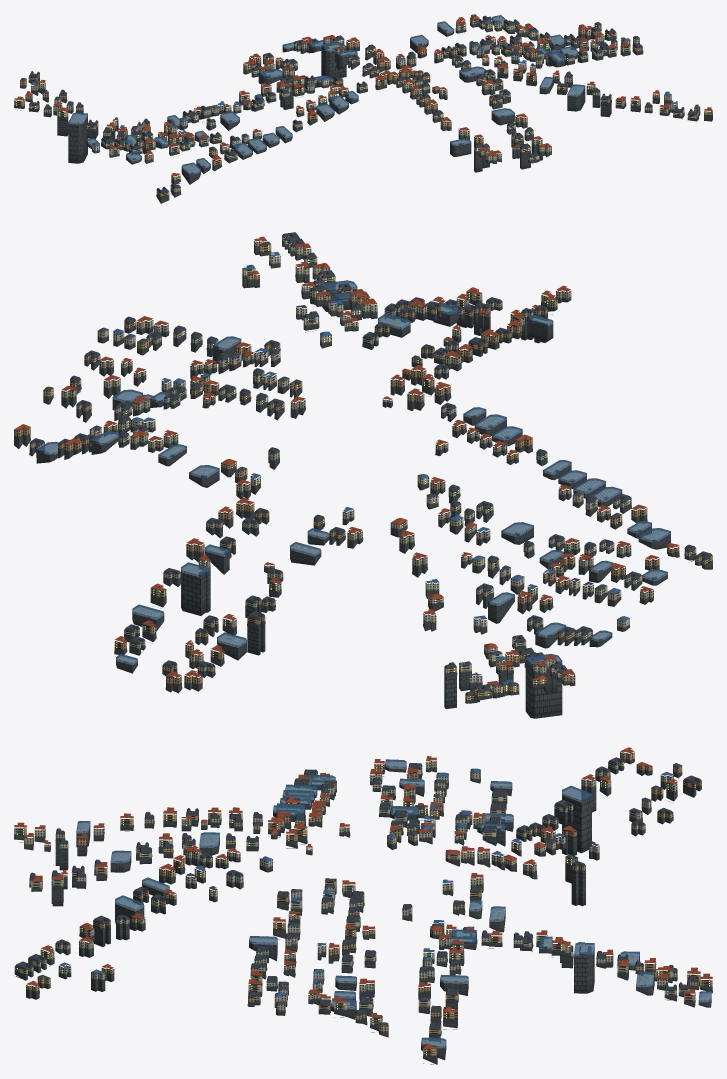
Rendered from osm_buildings_T_W02_S02_Q1.glb.
3 renders of one model, top to bottom at view 1: azimuth 30°, elevation 25°; view 2: azimuth 150°, elevation 25°; view 3: azimuth 270°, elevation 25°, orthographic. The views are drawn at different scales.
Visible parts, largest first — view 1: OSM_T_W02_S02_Q1_foundation, OSM_T_W02_S02_Q1_wall_cream_stucco, OSM_T_W02_S02_Q1_greenhouse_blend, OSM_T_W02_S02_Q1_wall_french_ochre, OSM_T_W02_S02_Q1_roof_mansard_slate, OSM_T_W02_S02_Q1_roof_terracotta, OSM_T_W02_S02_Q1_roof_mansard_deck, OSM_T_W02_S02_Q1_roof_mint_metal, OSM_T_W02_S02_Q1_window_emissive_warm, OSM_T_W02_S02_Q1_wall_warm_white, OSM_T_W02_S02_Q1_trim_cornice, OSM_T_W02_S02_Q1_balcony_railing (+3 smaller); view 2: OSM_T_W02_S02_Q1_foundation, OSM_T_W02_S02_Q1_wall_cream_stucco, OSM_T_W02_S02_Q1_greenhouse_blend, OSM_T_W02_S02_Q1_wall_french_ochre, OSM_T_W02_S02_Q1_roof_mansard_slate, OSM_T_W02_S02_Q1_roof_terracotta, OSM_T_W02_S02_Q1_roof_mansard_deck, OSM_T_W02_S02_Q1_roof_mint_metal, OSM_T_W02_S02_Q1_wall_warm_white, OSM_T_W02_S02_Q1_trim_cornice, OSM_T_W02_S02_Q1_wall_pastel_sand, OSM_T_W02_S02_Q1_window_emissive_warm (+2 smaller); view 3: OSM_T_W02_S02_Q1_foundation, OSM_T_W02_S02_Q1_wall_cream_stucco, OSM_T_W02_S02_Q1_greenhouse_blend, OSM_T_W02_S02_Q1_wall_french_ochre, OSM_T_W02_S02_Q1_roof_mansard_slate, OSM_T_W02_S02_Q1_roof_terracotta, OSM_T_W02_S02_Q1_roof_mansard_deck, OSM_T_W02_S02_Q1_wall_pastel_sand, OSM_T_W02_S02_Q1_trim_cornice, OSM_T_W02_S02_Q1_wall_warm_white, OSM_T_W02_S02_Q1_roof_mint_metal, OSM_T_W02_S02_Q1_roof_alpine_blue (+2 smaller).
Part boxes in pixels (x1,y1,x2,y2): OSM_T_W02_S02_Q1_foundation: (14, 20, 712, 203); OSM_T_W02_S02_Q1_wall_cream_stucco: (29, 15, 698, 192); OSM_T_W02_S02_Q1_greenhouse_blend: (68, 15, 585, 174); OSM_T_W02_S02_Q1_wall_french_ochre: (14, 21, 712, 196); OSM_T_W02_S02_Q1_roof_mansard_slate: (20, 16, 699, 193); OSM_T_W02_S02_Q1_roof_terracotta: (14, 14, 712, 176); OSM_T_W02_S02_Q1_roof_mansard_deck: (30, 15, 697, 191); OSM_T_W02_S02_Q1_roof_mint_metal: (15, 24, 710, 200); OSM_T_W02_S02_Q1_window_emissive_warm: (16, 18, 706, 193); OSM_T_W02_S02_Q1_wall_warm_white: (92, 43, 563, 155); OSM_T_W02_S02_Q1_trim_cornice: (17, 19, 712, 195); OSM_T_W02_S02_Q1_balcony_railing: (15, 20, 710, 195); OSM_T_W02_S02_Q1_foundation: (14, 240, 712, 718); OSM_T_W02_S02_Q1_wall_cream_stucco: (29, 236, 696, 693); OSM_T_W02_S02_Q1_greenhouse_blend: (36, 280, 670, 666); OSM_T_W02_S02_Q1_wall_french_ochre: (14, 240, 712, 700); OSM_T_W02_S02_Q1_roof_mansard_slate: (30, 233, 712, 695); OSM_T_W02_S02_Q1_roof_terracotta: (14, 235, 678, 685); OSM_T_W02_S02_Q1_roof_mansard_deck: (31, 232, 710, 693); OSM_T_W02_S02_Q1_roof_mint_metal: (14, 243, 712, 700); OSM_T_W02_S02_Q1_wall_warm_white: (161, 301, 629, 683); OSM_T_W02_S02_Q1_trim_cornice: (15, 236, 709, 702); OSM_T_W02_S02_Q1_wall_pastel_sand: (89, 254, 621, 672); OSM_T_W02_S02_Q1_window_emissive_warm: (46, 245, 707, 699); OSM_T_W02_S02_Q1_foundation: (14, 759, 712, 1064); OSM_T_W02_S02_Q1_wall_cream_stucco: (14, 759, 690, 1024); OSM_T_W02_S02_Q1_greenhouse_blend: (76, 759, 711, 1048); OSM_T_W02_S02_Q1_wall_french_ochre: (26, 749, 712, 1055); OSM_T_W02_S02_Q1_roof_mansard_slate: (15, 758, 701, 1046); OSM_T_W02_S02_Q1_roof_terracotta: (14, 747, 712, 1049); OSM_T_W02_S02_Q1_roof_mansard_deck: (16, 757, 710, 1047); OSM_T_W02_S02_Q1_wall_pastel_sand: (58, 774, 651, 1007); OSM_T_W02_S02_Q1_trim_cornice: (19, 752, 712, 1064); OSM_T_W02_S02_Q1_wall_warm_white: (44, 770, 599, 990); OSM_T_W02_S02_Q1_roof_mint_metal: (14, 759, 712, 1055); OSM_T_W02_S02_Q1_roof_alpine_blue: (59, 768, 673, 996).
Bounding box in the file's own units: 976 × 273 × 919.
16 materials, 16 textured.
